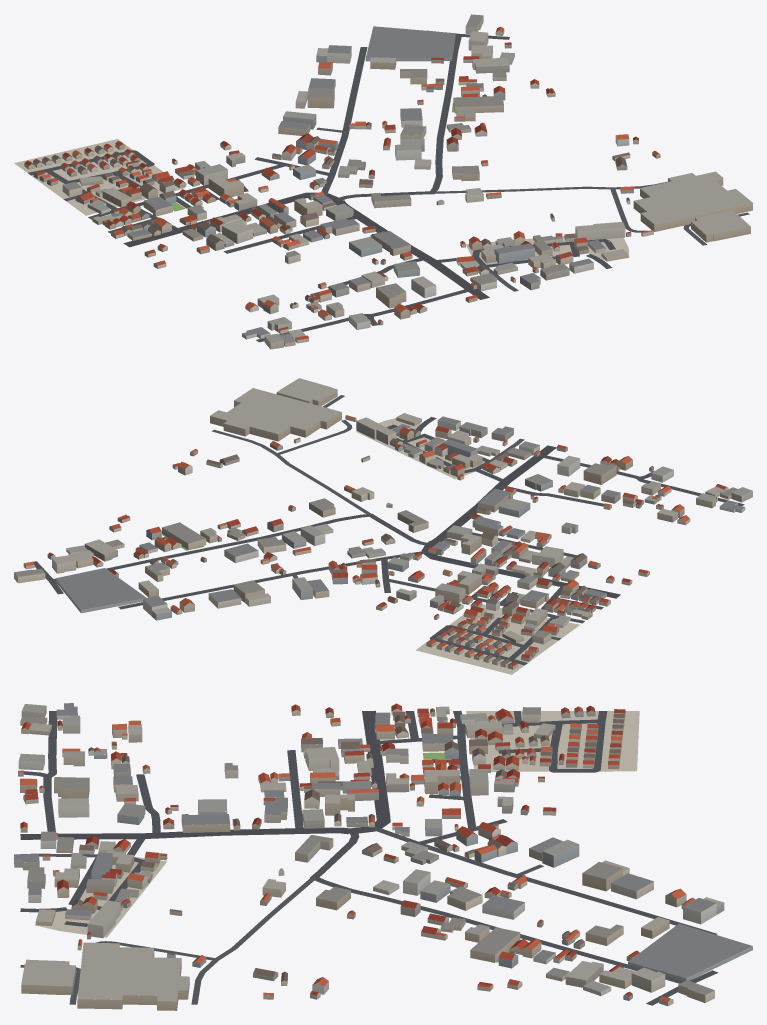
3 views of the same model, one above another, from view 1: azimuth 30°, elevation 25°; view 2: azimuth 150°, elevation 25°; view 3: azimuth 270°, elevation 25° (orthographic). The views are drawn at different scales.
Parts seen in each view (by area): view 1: buildings_roofs, buildings_walls, roads, landuse; view 2: buildings_roofs, buildings_walls, roads, landuse; view 3: buildings_roofs, buildings_walls, roads, landuse.
Part boxes in pixels (<box>): buildings_roofs: <box>25,14,752,343</box>; buildings_walls: <box>24,16,752,349</box>; roads: <box>28,30,749,342</box>; landuse: <box>14,103,629,264</box>; buildings_roofs: <box>14,378,752,666</box>; buildings_walls: <box>14,389,752,669</box>; roads: <box>33,395,744,665</box>; landuse: <box>162,418,579,674</box>; buildings_roofs: <box>14,703,752,1002</box>; buildings_walls: <box>14,704,752,1010</box>; roads: <box>20,710,717,1005</box>; landuse: <box>35,711,639,962</box>.
Bounding box in the file's own units: 517 × 9.62 × 532.
